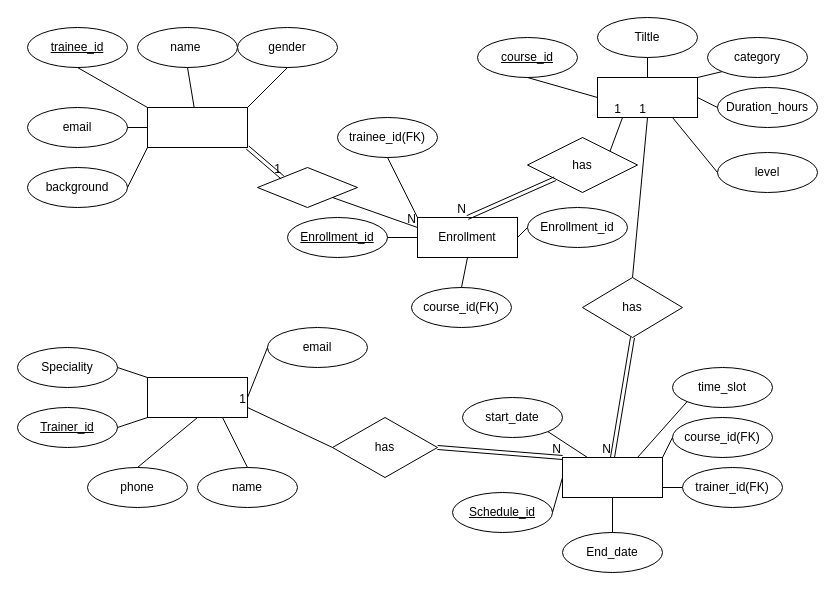
Some shapes in this 835 by 590 pixel diagram are drawn without their labels. The shapes that lost their labels are listed below. From the top down, each one's centre as x and y in pixels, then its label:
At pixel 647 97: "Course".
At pixel 197 127: "Trainee".
At pixel 307 187: "Enroll".
At pixel 197 397: "Trainer".
At pixel 612 477: "Schedule".
